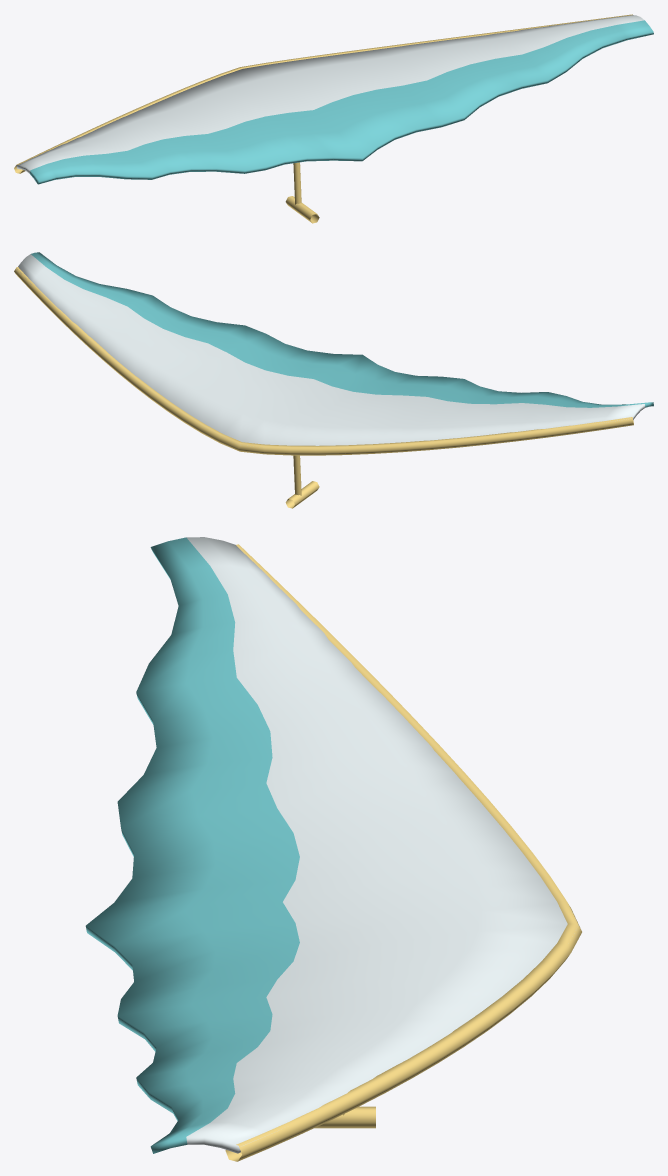
The model's file is Glider.fbx.
3 views of the same model, one above another, from view 1: azimuth 30°, elevation 25°; view 2: azimuth 150°, elevation 25°; view 3: azimuth 270°, elevation 25° (orthographic). The views are drawn at different scales.
Visible parts, largest first — view 1: Glider; view 2: Glider; view 3: Glider.
Boxes of the visible parts, <box> form: Glider: <box>14,14,653,223</box>; Glider: <box>14,252,653,508</box>; Glider: <box>85,537,581,1161</box>.
Size of the model in its own units: 2.62 by 0.5838 by 0.9092.
